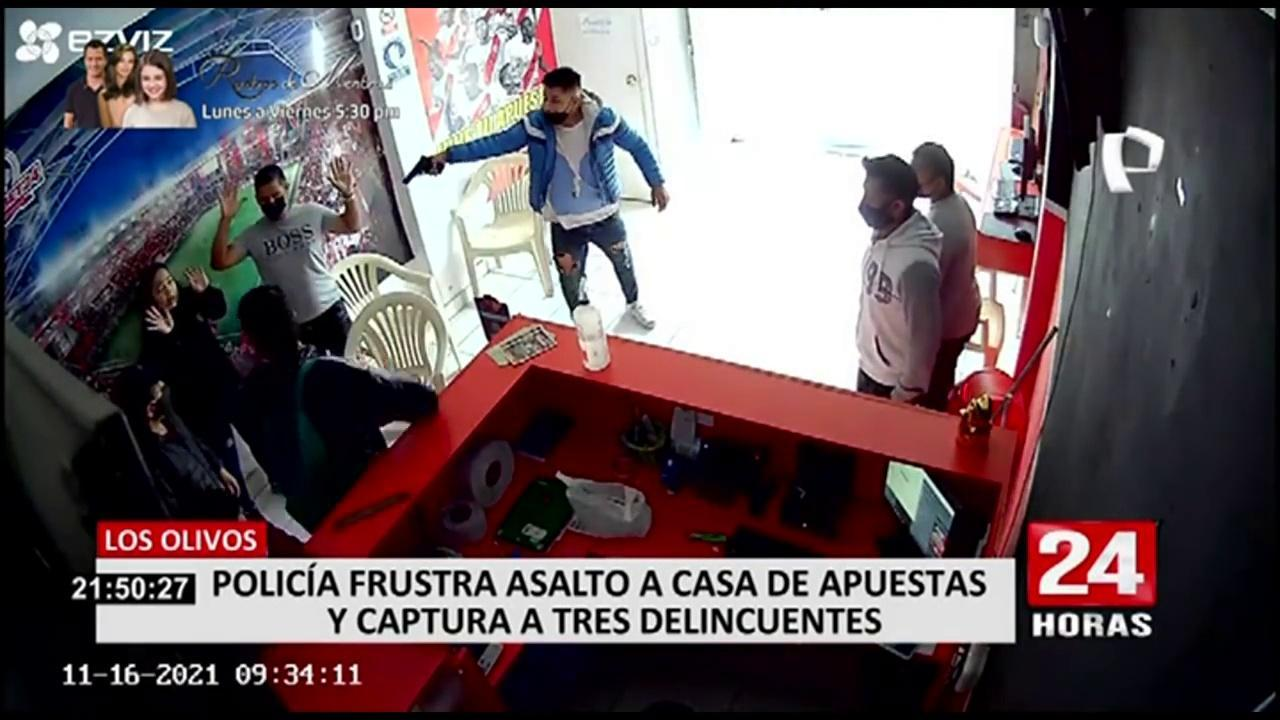Guns: (396, 139, 449, 200)
